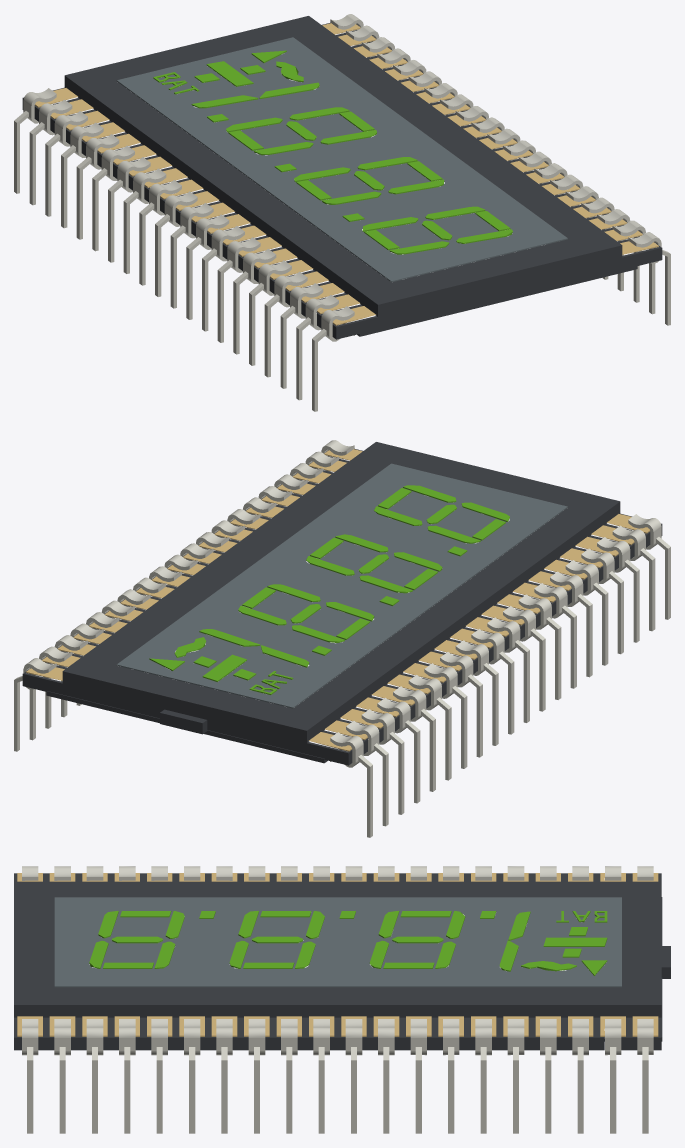
The picture shows the model from 3 angles, top to bottom: view 1: azimuth 30°, elevation 25°; view 2: azimuth 150°, elevation 25°; view 3: azimuth 270°, elevation 25°; orthographic projection. The views are drawn at different scales.
Parts seen in each view (by area): view 1: 0.08333333333333333_0.08333333333333333_0.08333333333333333_, 0.16666666666666666_0.16666666666666666_0.16666666666666666_, 0.6666666666666666_0.6666666666666666_0.5833333333333334_0.8, 0.16666666666666666_0.4166666666666667_0_0, 0.75_0.5_0.25_0.9; view 2: 0.08333333333333333_0.08333333333333333_0.08333333333333333_, 0.16666666666666666_0.16666666666666666_0.16666666666666666_, 0.6666666666666666_0.6666666666666666_0.5833333333333334_0.8, 0.16666666666666666_0.4166666666666667_0_0, 0.75_0.5_0.25_0.9; view 3: 0.08333333333333333_0.08333333333333333_0.08333333333333333_, 0.16666666666666666_0.16666666666666666_0.16666666666666666_, 0.6666666666666666_0.6666666666666666_0.5833333333333334_0.8, 0.16666666666666666_0.4166666666666667_0_0, 0.75_0.5_0.25_0.9.
Boxes of the visible parts, bbox=[...] form: 0.08333333333333333_0.08333333333333333_0.08333333333333333_: bbox=[22, 16, 662, 339]; 0.16666666666666666_0.16666666666666666_0.16666666666666666_: bbox=[116, 37, 567, 282]; 0.6666666666666666_0.6666666666666666_0.5833333333333334_0.8: bbox=[14, 14, 670, 411]; 0.16666666666666666_0.4166666666666667_0_0: bbox=[153, 50, 512, 254]; 0.75_0.5_0.25_0.9: bbox=[35, 23, 658, 325]; 0.08333333333333333_0.08333333333333333_0.08333333333333333_: bbox=[22, 442, 662, 765]; 0.16666666666666666_0.16666666666666666_0.16666666666666666_: bbox=[116, 463, 567, 708]; 0.6666666666666666_0.6666666666666666_0.5833333333333334_0.8: bbox=[14, 440, 670, 837]; 0.16666666666666666_0.4166666666666667_0_0: bbox=[149, 485, 509, 694]; 0.75_0.5_0.25_0.9: bbox=[26, 449, 649, 751]; 0.08333333333333333_0.08333333333333333_0.08333333333333333_: bbox=[14, 873, 670, 1050]; 0.16666666666666666_0.16666666666666666_0.16666666666666666_: bbox=[54, 897, 621, 987]; 0.6666666666666666_0.6666666666666666_0.5833333333333334_0.8: bbox=[22, 866, 653, 1133]; 0.16666666666666666_0.4166666666666667_0_0: bbox=[89, 911, 607, 975]; 0.75_0.5_0.25_0.9: bbox=[17, 873, 658, 1036].
Size of the model in its own units: 3.33 by 0.8949 by 5.15.
